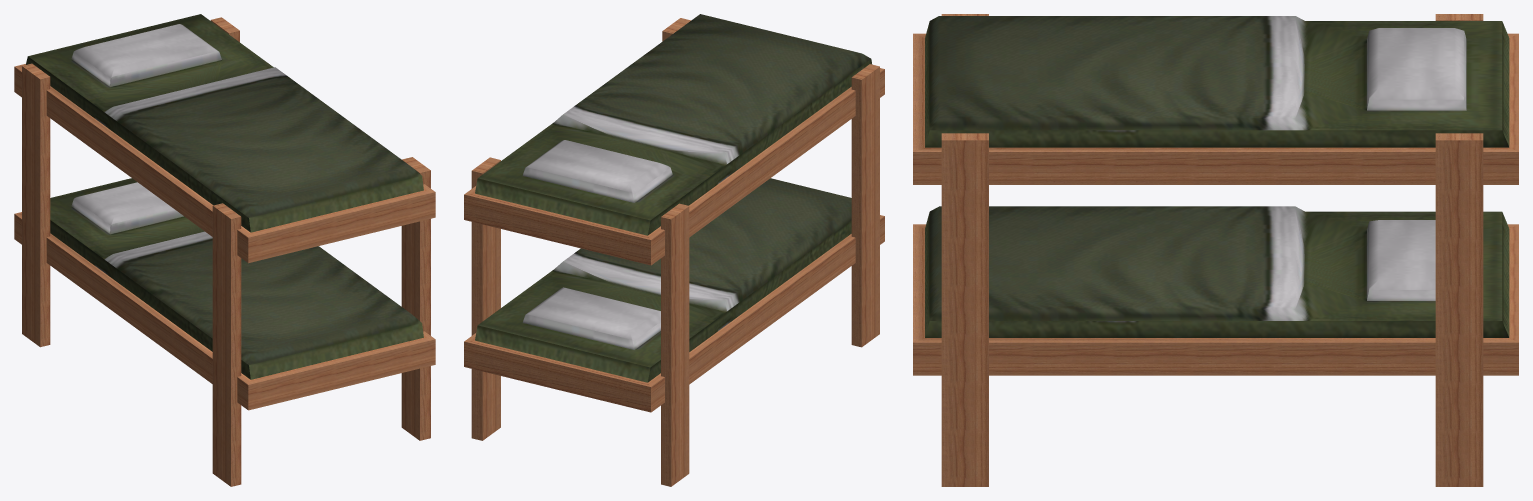
File: campbed.obj
3 views of the same model, side by side, from view 1: azimuth 30°, elevation 25°; view 2: azimuth 150°, elevation 25°; view 3: azimuth 270°, elevation 25° (orthographic). The views are drawn at different scales.
Visible parts, largest first — view 1: Group; view 2: Group; view 3: Group.
Boxes of the visible parts, left/top/right/bottom form: Group: left=14, top=14, right=435, bottom=486; Group: left=464, top=14, right=884, bottom=486; Group: left=913, top=14, right=1518, bottom=486.
Bounding box in the file's own units: 37.03 × 50 × 75.12.
Materials: 1 (1 with a texture image).
